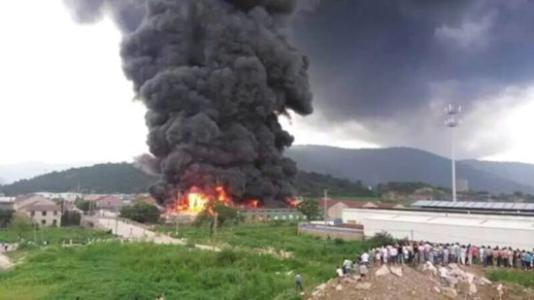fire: (165, 173, 254, 215)
